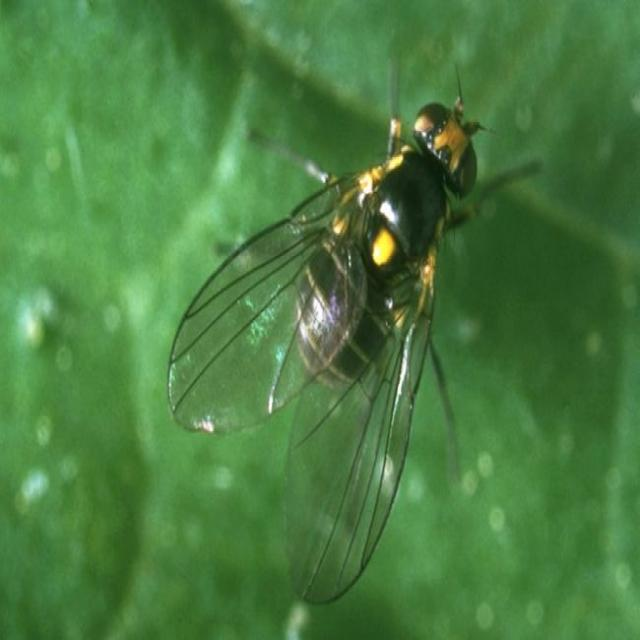Serpentine leafminer: (161, 22, 560, 626)
